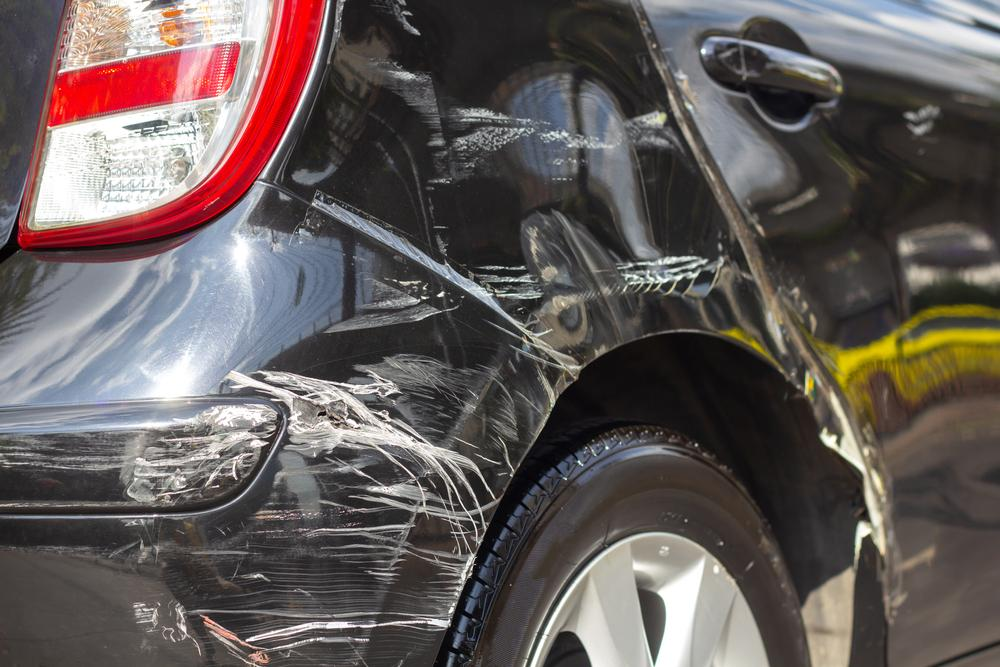scratch: (0, 275, 580, 667), (367, 0, 731, 343)
